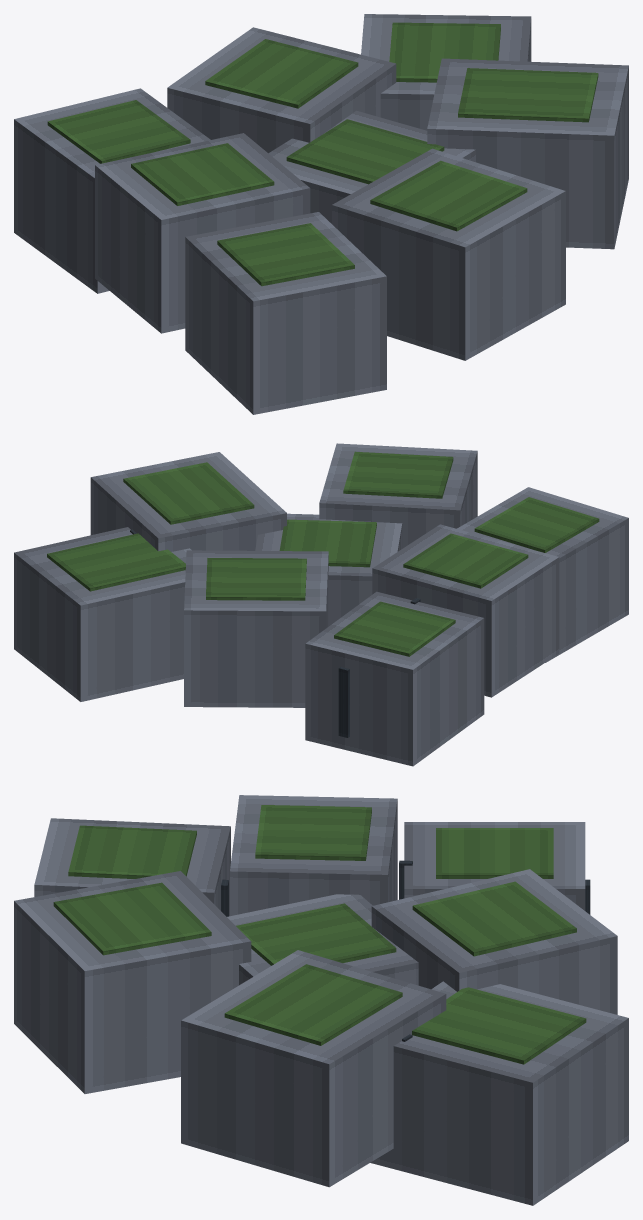
File: ruin_rubble_forest.gltf
3 renders of one model, top to bottom at view 1: azimuth 30°, elevation 25°; view 2: azimuth 150°, elevation 25°; view 3: azimuth 270°, elevation 25°, orthographic. The views are drawn at different scales.
Parts seen in each view (by area): view 1: root_mesh; view 2: root_mesh; view 3: root_mesh.
Part boxes in pixels (<box>): root_mesh: <box>14,14,628,414</box>; root_mesh: <box>14,443,628,766</box>; root_mesh: <box>14,795,628,1205</box>.
Size of the model in its own units: 1.76 by 0.45 by 1.7.
1 material, 1 textured.
